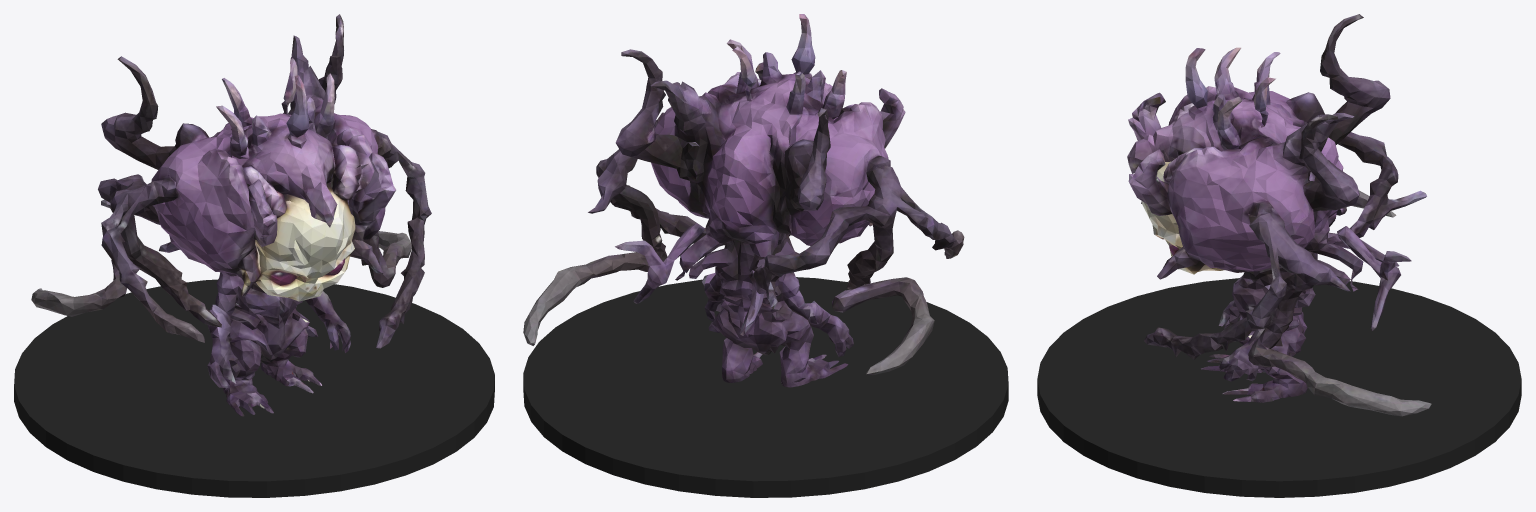
File: queen.glb
3 renders of one model, left to right at view 1: azimuth 30°, elevation 25°; view 2: azimuth 150°, elevation 25°; view 3: azimuth 270°, elevation 25°, orthographic.
Parts seen in each view (by area): view 1: base, figure; view 2: base, figure; view 3: base, figure.
Part boxes in pixels (x1,y1,x2,y2): base: (14, 279, 494, 497); figure: (31, 14, 431, 416); base: (523, 277, 1008, 497); figure: (523, 14, 964, 387); base: (1037, 278, 1521, 497); figure: (1127, 14, 1431, 416).
Bounding box in the file's own units: 3.15 × 2.51 × 3.15.
2 materials, 1 textured.
